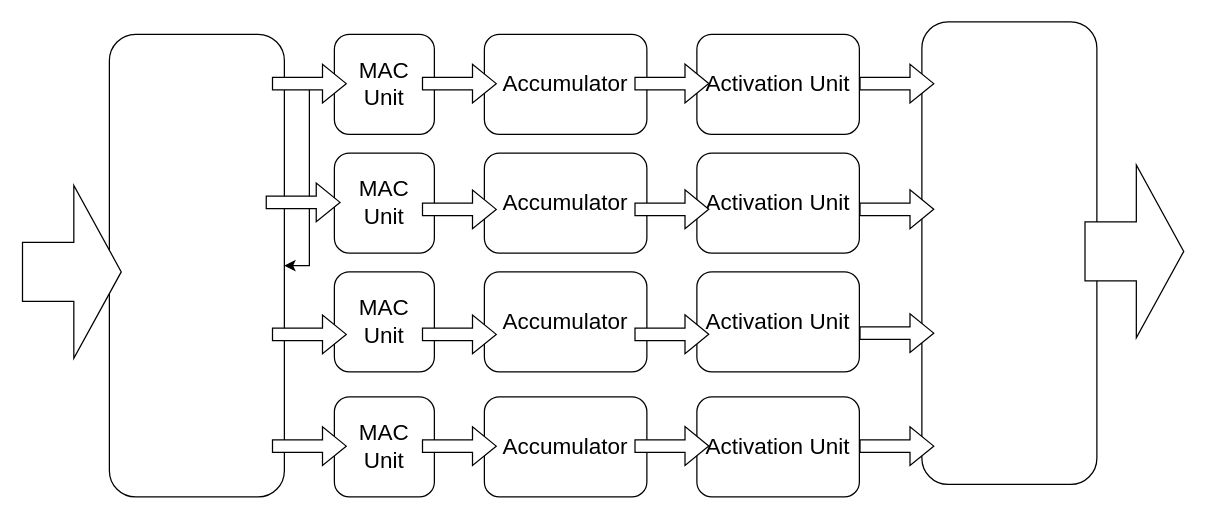
Some shapes in this 1205 by 519 pixel diagram are drawn without their labels. The shapes that lost their labels are listed below. From the top down, each one's box as (x1, y1, x2, y2) in pixels, then its label:
(108, 33, 284, 497): Weight & Bias Unpacking
(921, 21, 1097, 484): Output serializer
